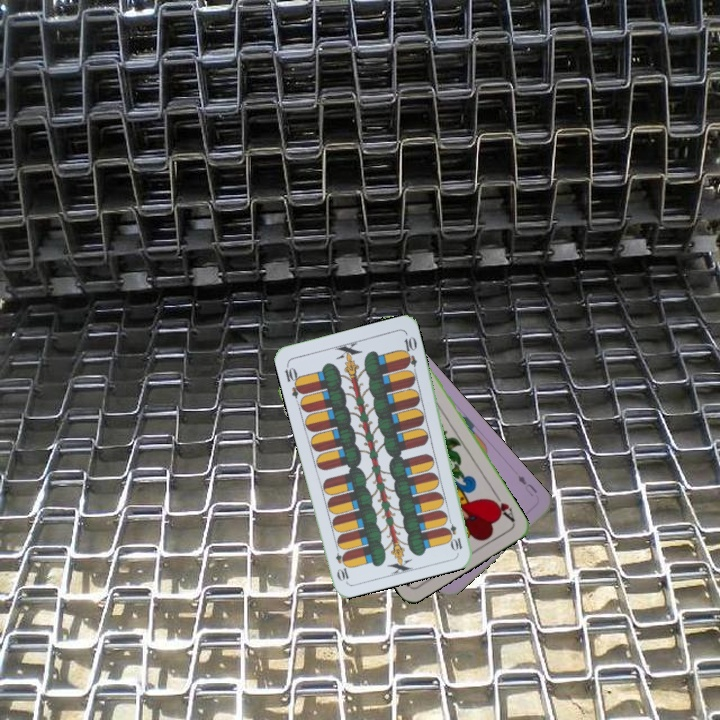E10: (281, 360, 306, 400), (443, 513, 465, 553)
EU: (514, 471, 540, 499)
HA: (487, 488, 517, 525)
